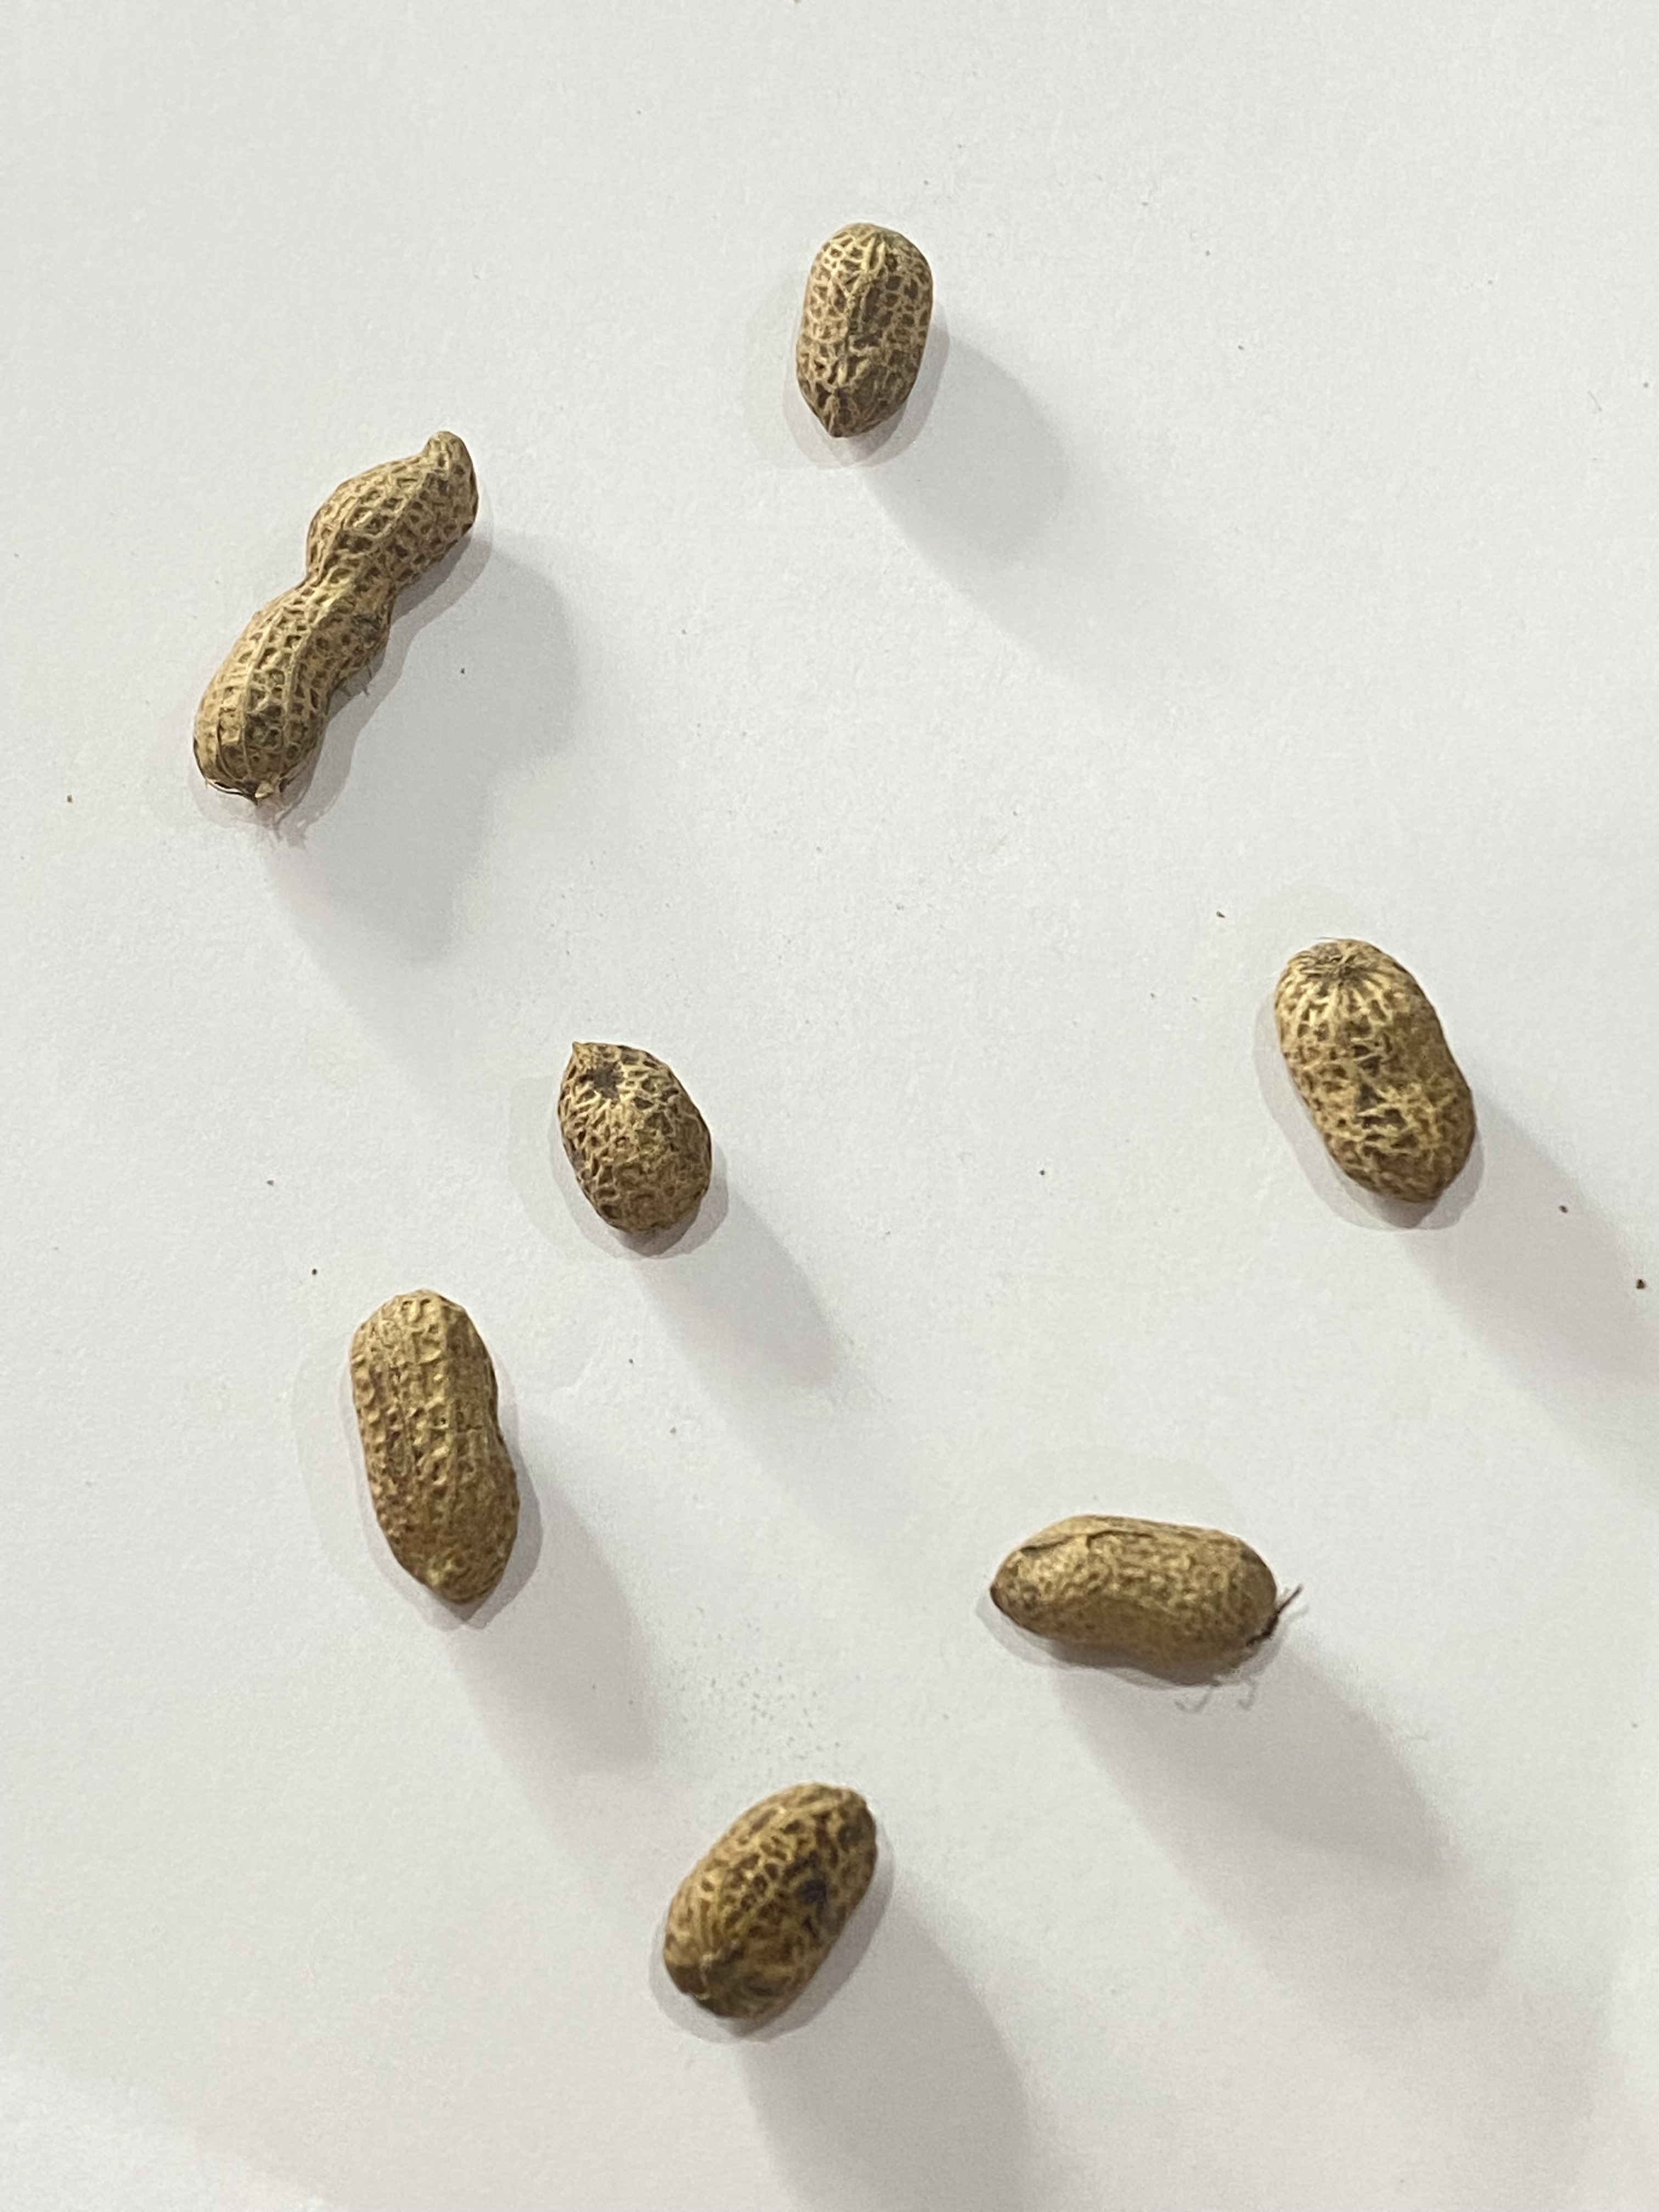kacang1: (627, 1764, 911, 2033), (491, 1010, 749, 1277), (769, 204, 962, 451)
kacang2: (279, 1287, 610, 1634), (1243, 932, 1537, 1216), (934, 1500, 1368, 1691)
kacang3: (148, 434, 549, 815)
